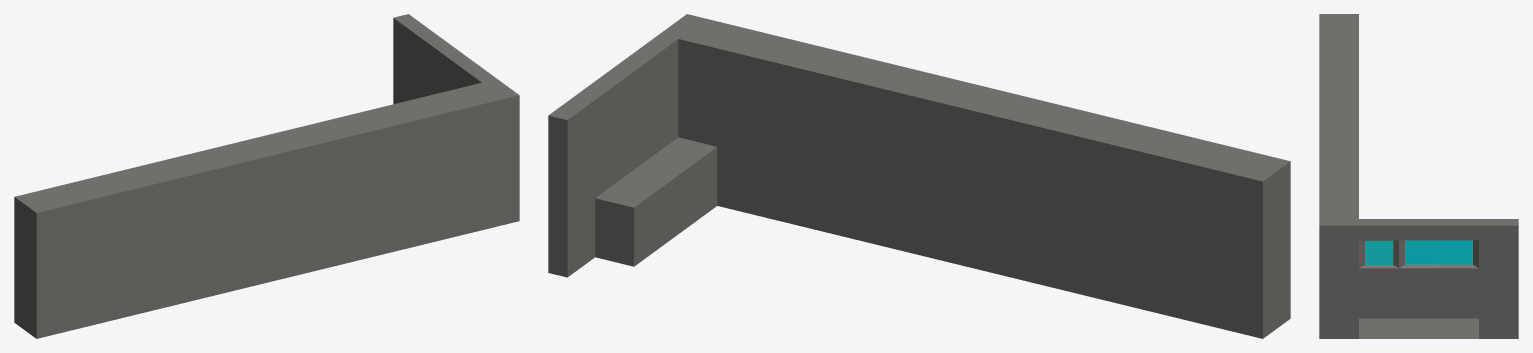
The model's file is right building.obj.
The picture shows the model from 3 angles, left to right: view 1: azimuth 30°, elevation 25°; view 2: azimuth 150°, elevation 25°; view 3: azimuth 270°, elevation 25°; orthographic projection. The views are drawn at different scales.
Visible parts, largest first — view 1: right_building_Cube.004; view 2: right_building_Cube.004; view 3: right_building_Cube.004.
Boxes of the visible parts, <box> form: right_building_Cube.004: <box>14,14,519,338</box>; right_building_Cube.004: <box>548,14,1290,338</box>; right_building_Cube.004: <box>1319,14,1518,338</box>.
Size of the model in its own units: 38.56 by 9.61 by 15.34.
